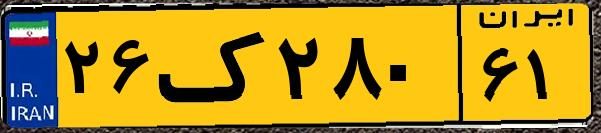0: (385, 28, 445, 110)
1: (525, 38, 570, 115)
2: (270, 28, 330, 110), (57, 26, 110, 100)
6: (475, 38, 525, 113), (110, 28, 158, 98)
8: (330, 28, 385, 110)
ک: (158, 12, 270, 120)
